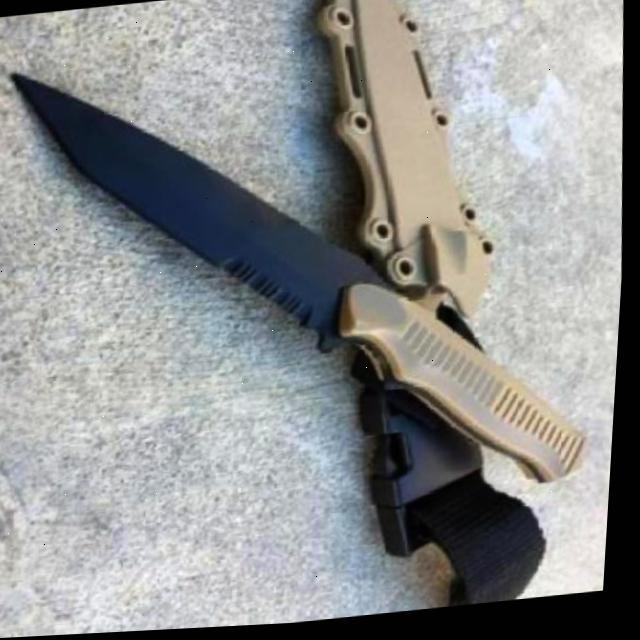knife: (0, 19, 613, 537)
